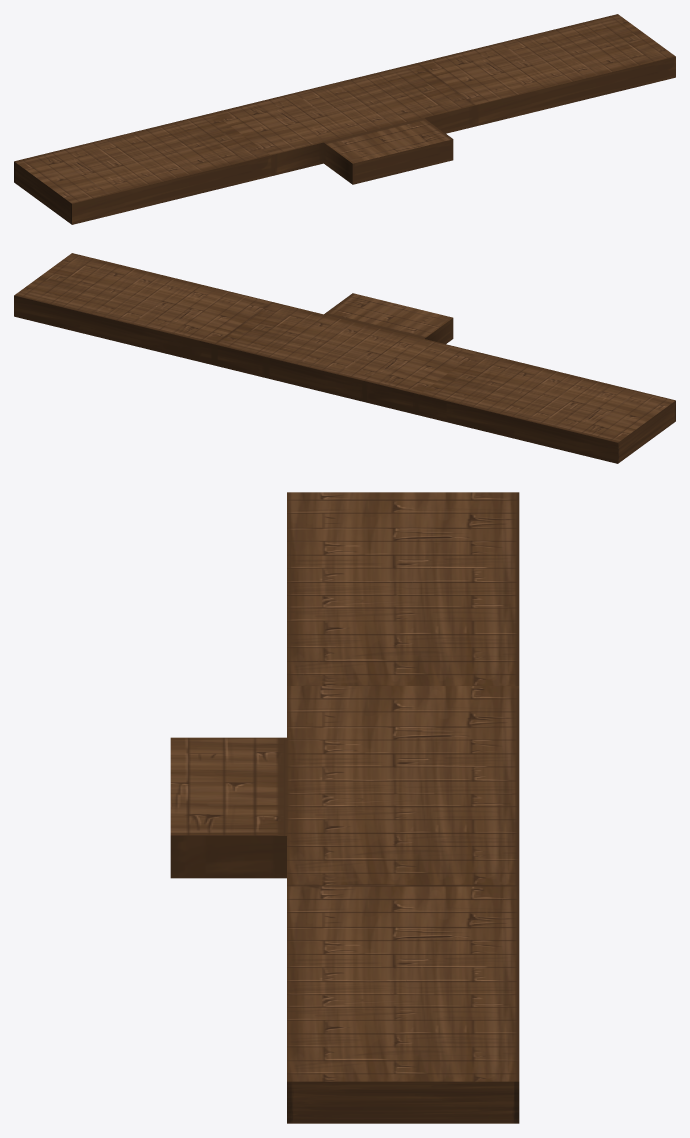
File: t junction terrain(new).FBX
3 views of the same model, one above another, from view 1: azimuth 30°, elevation 25°; view 2: azimuth 150°, elevation 25°; view 3: azimuth 270°, elevation 25° (orthographic). The views are drawn at different scales.
Parts seen in each view (by area): view 1: Box908; view 2: Box908; view 3: Box908.
Boxes of the visible parts, x1,y1,x2,y2 form: Box908: (14,14,675,224); Box908: (14,253,675,463); Box908: (170,492,519,1123).
Size of the model in its own units: 3000 by 100 by 750.
